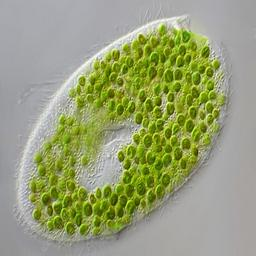Paramecium: (15, 12, 233, 241)
